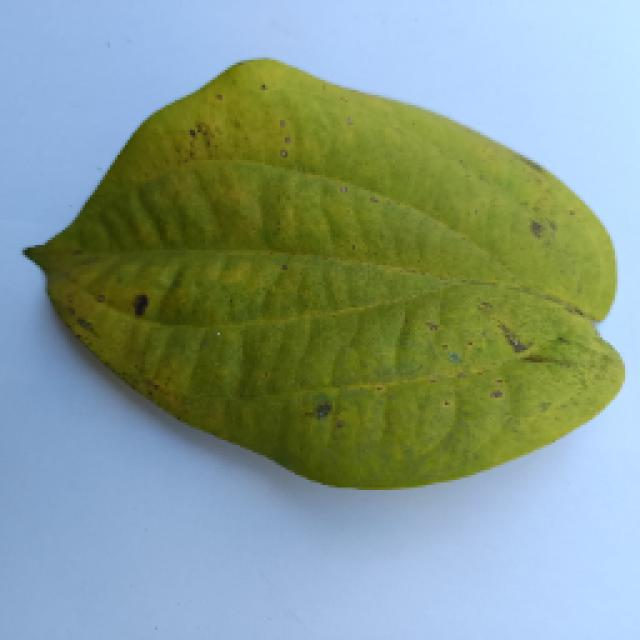slow-decline: (22, 58, 622, 500)
